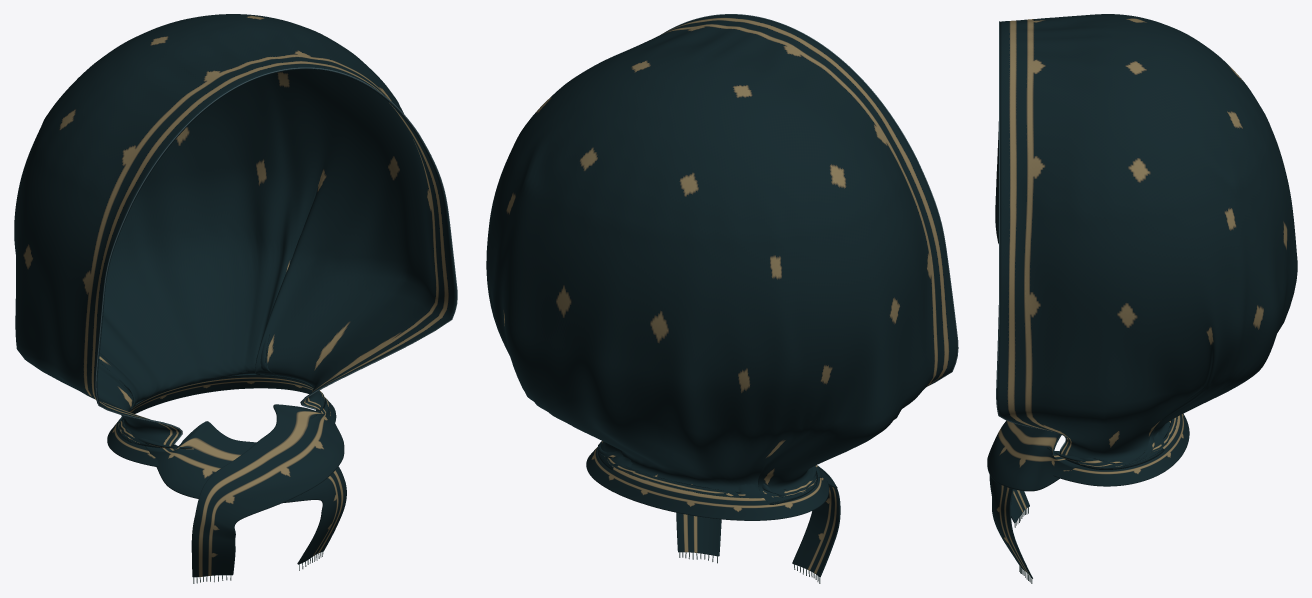
The model's file is Feminine-sweatshirt-pashmina237-headgear.glb.
3 renders of one model, left to right at view 1: azimuth 30°, elevation 25°; view 2: azimuth 150°, elevation 25°; view 3: azimuth 270°, elevation 25°, orthographic. The views are drawn at different scales.
Visible parts, largest first — view 1: 226 headgear / Headwear / continuous woven pashmina237, 226 headgear / Headwear / face edge237; view 2: 226 headgear / Headwear / continuous woven pashmina237, 226 headgear / Headwear / face edge237; view 3: 226 headgear / Headwear / continuous woven pashmina237, 226 headgear / Headwear / face edge237.
Part boxes in pixels (x1=…): 226 headgear / Headwear / continuous woven pashmina237: x1=14, y1=14, x2=456, y2=577; 226 headgear / Headwear / face edge237: x1=95, y1=67, x2=457, y2=443; 226 headgear / Headwear / continuous woven pashmina237: x1=486, y1=14, x2=957, y2=577; 226 headgear / Headwear / face edge237: x1=661, y1=14, x2=958, y2=385; 226 headgear / Headwear / continuous woven pashmina237: x1=987, y1=14, x2=1297, y2=578; 226 headgear / Headwear / face edge237: x1=996, y1=21, x2=1066, y2=450.
Bounding box in the file's own units: 1.02 × 1.35 × 0.7314.
3 materials, 1 textured.
